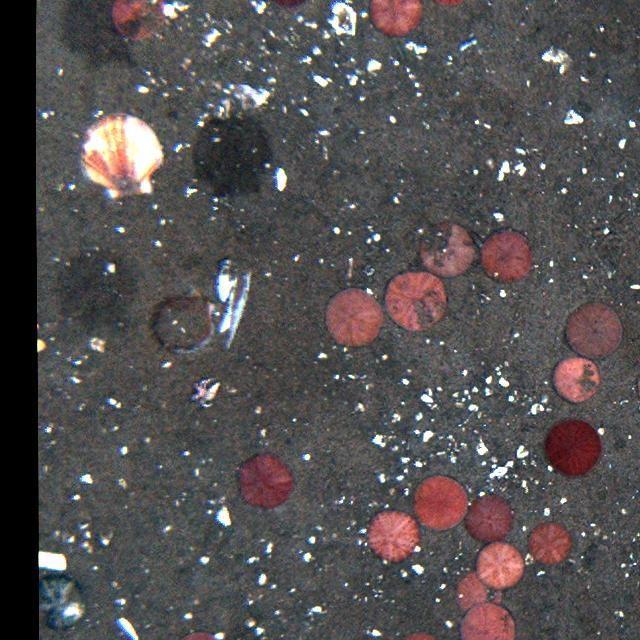scallop: (74, 113, 168, 201)
